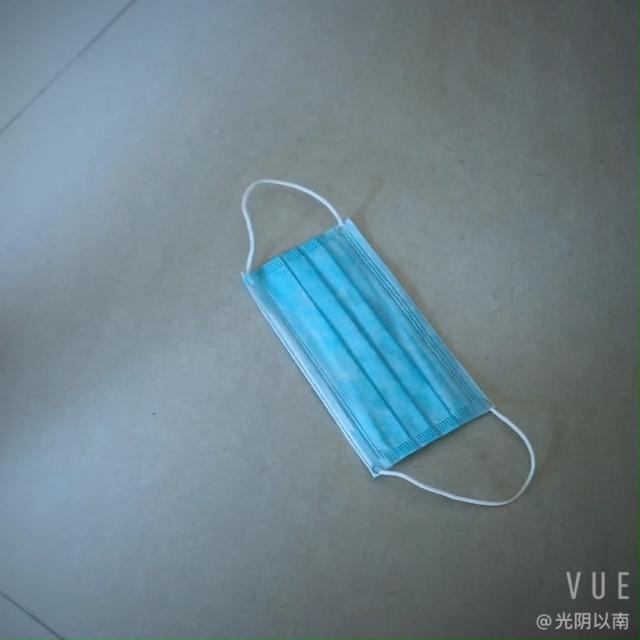non-organic waste: (264, 216, 486, 463)
